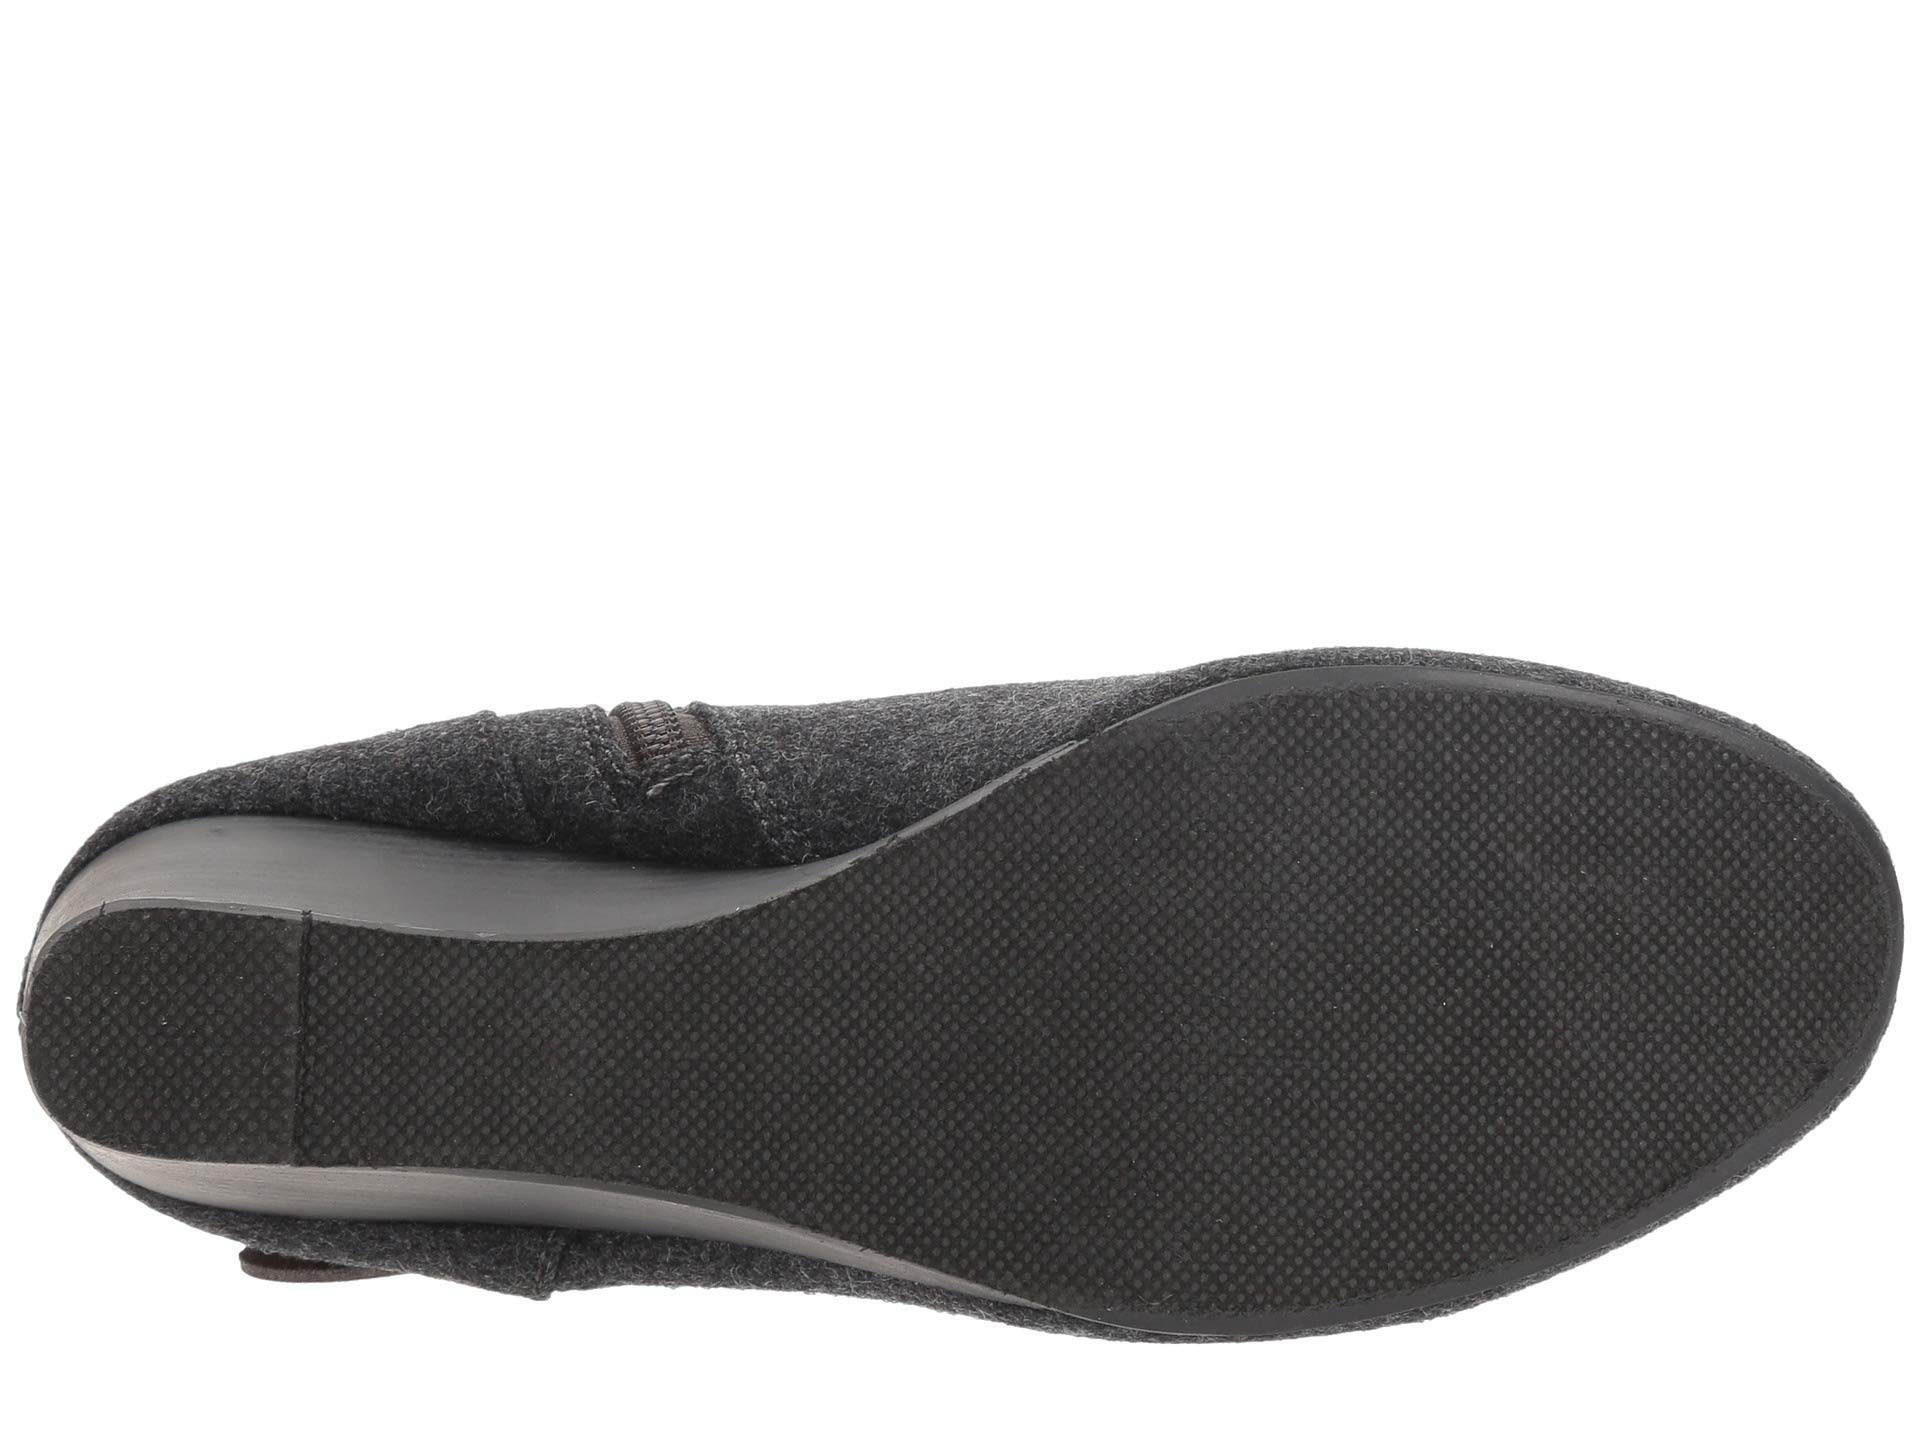line: (280, 921, 349, 1156)
quad: (1114, 771, 1568, 1206), (280, 921, 349, 1156)
